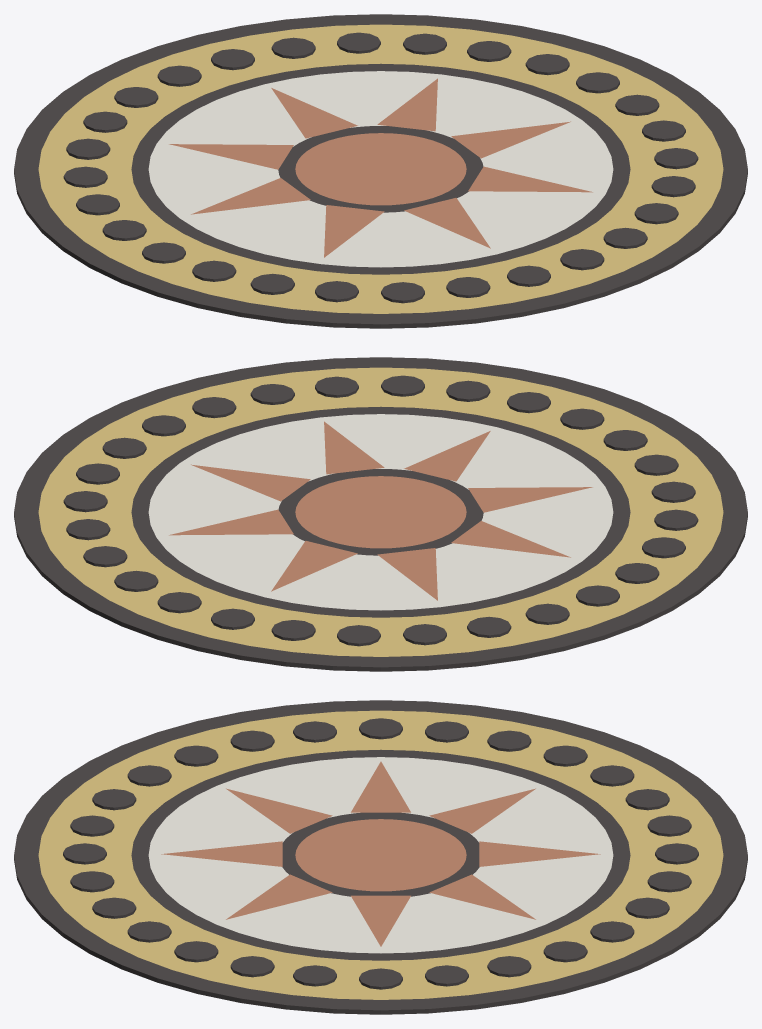
Rendered from mosaic.glb.
3 views of the same model, one above another, from view 1: azimuth 30°, elevation 25°; view 2: azimuth 150°, elevation 25°; view 3: azimuth 270°, elevation 25° (orthographic).
Parts seen in each view (by area): view 1: ring_ochre1.02, ring_white0.42, ring_black1.4, waves, star, ring_black0.95, ring_terra0, ring_black0.35; view 2: ring_ochre1.02, ring_white0.42, ring_black1.4, waves, star, ring_black0.95, ring_terra0, ring_black0.35; view 3: ring_ochre1.02, ring_white0.42, ring_black1.4, waves, star, ring_black0.95, ring_terra0, ring_black0.35.
Boxes of the visible parts, x1,y1,x2,y2 form: ring_ochre1.02: (38,24,723,313); ring_white0.42: (148,71,613,267); ring_black1.4: (14,14,747,328); waves: (63,32,698,303); star: (169,78,592,257); ring_black0.95: (131,63,630,274); ring_terra0: (295,133,466,205); ring_black0.35: (278,126,483,212); ring_ochre1.02: (38,367,723,656); ring_white0.42: (148,414,613,610); ring_black1.4: (14,357,747,671); waves: (63,375,698,646); star: (169,421,592,600); ring_black0.95: (131,406,630,617); ring_terra0: (295,476,466,548); ring_black0.35: (278,469,483,555); ring_ochre1.02: (38,710,723,999); ring_white0.42: (148,757,613,953); ring_black1.4: (14,700,747,1014); waves: (63,718,698,989); star: (161,761,600,946); ring_black0.95: (131,749,630,960); ring_terra0: (295,819,466,891); ring_black0.35: (282,812,479,896).
Size of the model in its own units: 3 by 0.032 by 3.
